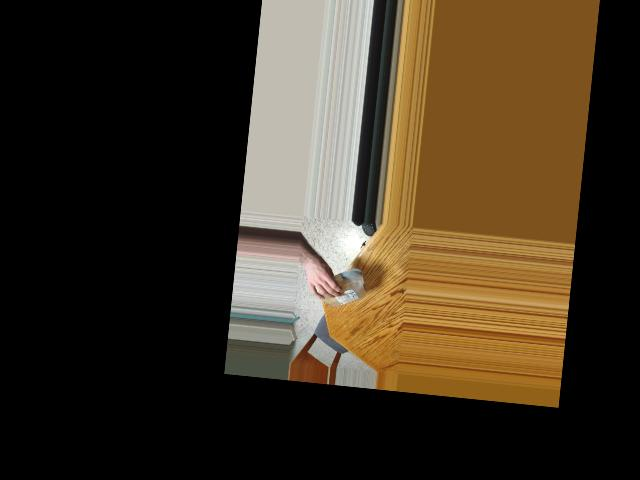cheese: (321, 269, 364, 303)
